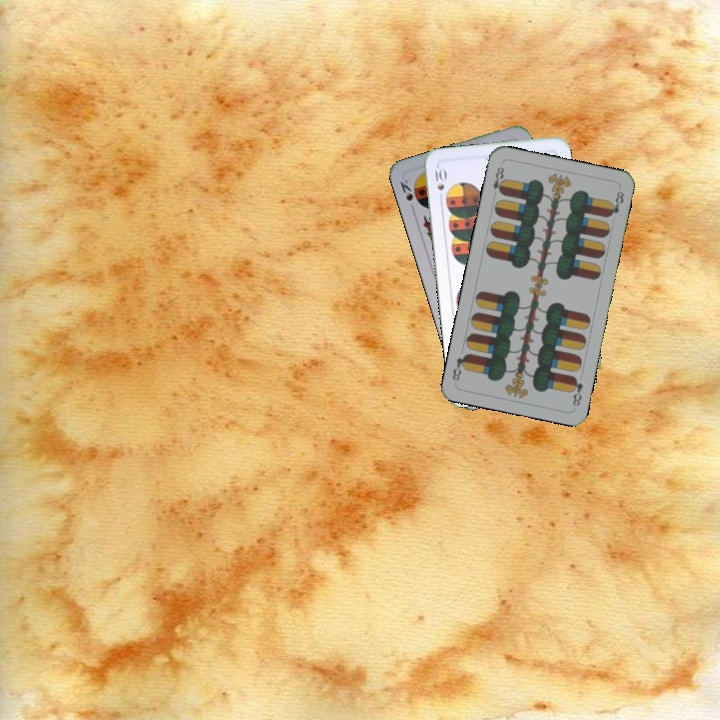E8: (567, 373, 586, 409), (489, 162, 508, 197)
S10: (431, 163, 448, 204)
SK: (396, 175, 416, 204)
